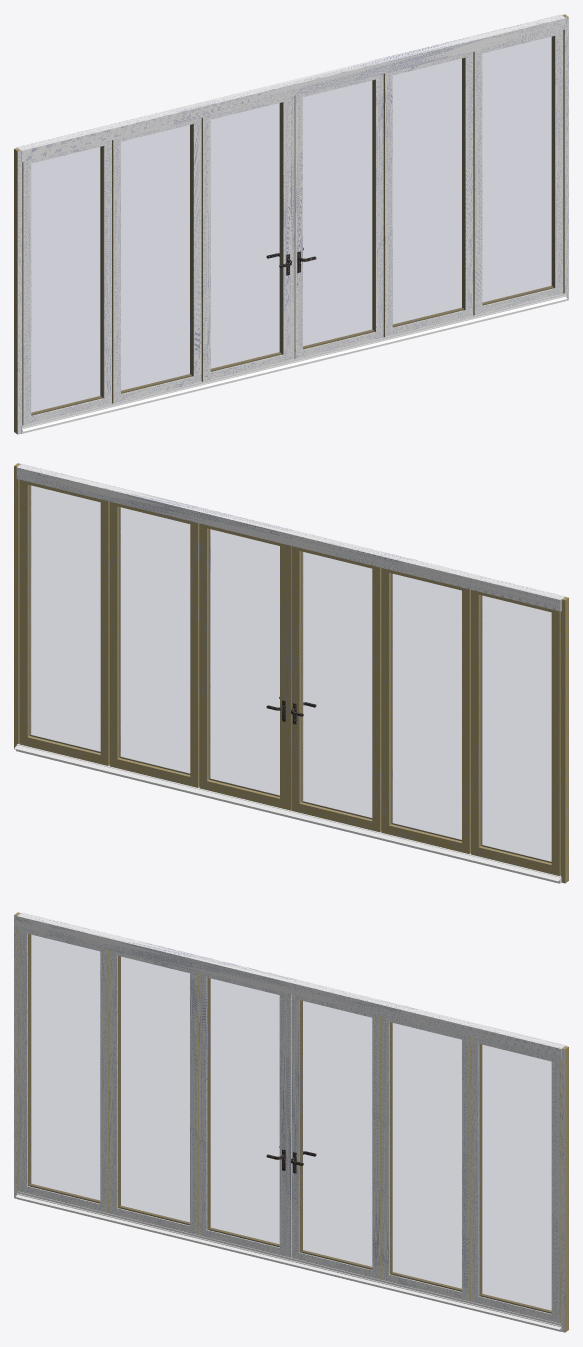
Rendered from glassWall.dae.
3 renders of one model, top to bottom at view 1: azimuth 30°, elevation 25°; view 2: azimuth 150°, elevation 25°; view 3: azimuth 330°, elevation 25°, orthographic.
Parts seen in each view (by area): view 1: PF_CR (×13), PF_CL (×6), _10_WA67_Header_Therm_Floor_In, _13_WA67_Header_Floor_Out, _16_WA67_Jamb_Left (×2), _03_WA67_Sill_LP_Saddle_Therm, _06_WA67_Sill_Weather, _17_WA67_Jamb_Right (×2), _12_WA67_Header_Therm_Floor_Out, LOCK_POST_1, _04_WA67_Sill_LP_Saddle; view 2: PF_CR (×7), PF_CL (×6), _13_WA67_Header_Floor_Out, PF_BC (×6), _03_WA67_Sill_LP_Saddle_Therm, _16_WA67_Jamb_Left, _12_WA67_Header_Therm_Floor_Out, _17_WA67_Jamb_Right, LOCK_POST_2, _04_WA67_Sill_LP_Saddle, _01_WA67_Sill_Flush_Therm, _10_WA67_Header_Therm_Floor_In; view 3: PF_CL (×12), PF_CR (×8), _10_WA67_Header_Therm_Floor_In, _12_WA67_Header_Therm_Floor_Out, _13_WA67_Header_Floor_Out, _17_WA67_Jamb_Right (×2), _03_WA67_Sill_LP_Saddle_Therm, _06_WA67_Sill_Weather, _16_WA67_Jamb_Left (×2), LOCK_POST_1, _04_WA67_Sill_LP_Saddle.
Boxes of the visible parts, bbox=[...] form: PF_CR (×13): bbox=[100, 39, 563, 392]; PF_CL (×6): bbox=[23, 59, 482, 412]; _10_WA67_Header_Therm_Floor_In: bbox=[16, 18, 565, 161]; _13_WA67_Header_Floor_Out: bbox=[17, 14, 564, 150]; _16_WA67_Jamb_Left (×2): bbox=[14, 148, 22, 434]; _03_WA67_Sill_LP_Saddle_Therm: bbox=[21, 297, 566, 433]; _06_WA67_Sill_Weather: bbox=[21, 293, 565, 428]; _17_WA67_Jamb_Right (×2): bbox=[562, 14, 568, 300]; _12_WA67_Header_Therm_Floor_Out: bbox=[21, 23, 565, 158]; LOCK_POST_1: bbox=[291, 95, 294, 359]; _04_WA67_Sill_LP_Saddle: bbox=[21, 295, 565, 428]; PF_CR (×7): bbox=[19, 488, 481, 841]; PF_CL (×6): bbox=[100, 508, 560, 861]; _13_WA67_Header_Floor_Out: bbox=[16, 464, 564, 608]; PF_BC (×6): bbox=[35, 736, 547, 872]; _03_WA67_Sill_LP_Saddle_Therm: bbox=[14, 745, 561, 883]; _16_WA67_Jamb_Left: bbox=[560, 597, 568, 883]; _12_WA67_Header_Therm_Floor_Out: bbox=[16, 476, 561, 611]; _17_WA67_Jamb_Right: bbox=[14, 463, 20, 749]; LOCK_POST_2: bbox=[287, 545, 291, 810]; _04_WA67_Sill_LP_Saddle: bbox=[17, 743, 561, 877]; _01_WA67_Sill_Flush_Therm: bbox=[17, 745, 558, 877]; _10_WA67_Header_Therm_Floor_In: bbox=[22, 464, 565, 596]; PF_CL (×12): bbox=[19, 937, 482, 1290]; PF_CR (×8): bbox=[100, 957, 559, 1310]; _10_WA67_Header_Therm_Floor_In: bbox=[17, 916, 561, 1059]; _12_WA67_Header_Therm_Floor_Out: bbox=[17, 916, 561, 1056]; _13_WA67_Header_Floor_Out: bbox=[18, 912, 566, 1048]; _17_WA67_Jamb_Right (×2): bbox=[560, 1046, 568, 1332]; _03_WA67_Sill_LP_Saddle_Therm: bbox=[16, 1195, 561, 1331]; _06_WA67_Sill_Weather: bbox=[17, 1191, 561, 1327]; _16_WA67_Jamb_Left (×2): bbox=[14, 912, 20, 1198]; LOCK_POST_1: bbox=[287, 993, 291, 1257]; _04_WA67_Sill_LP_Saddle: bbox=[17, 1193, 561, 1326].
Size of the model in its own units: 220 by 9.57 by 108.
